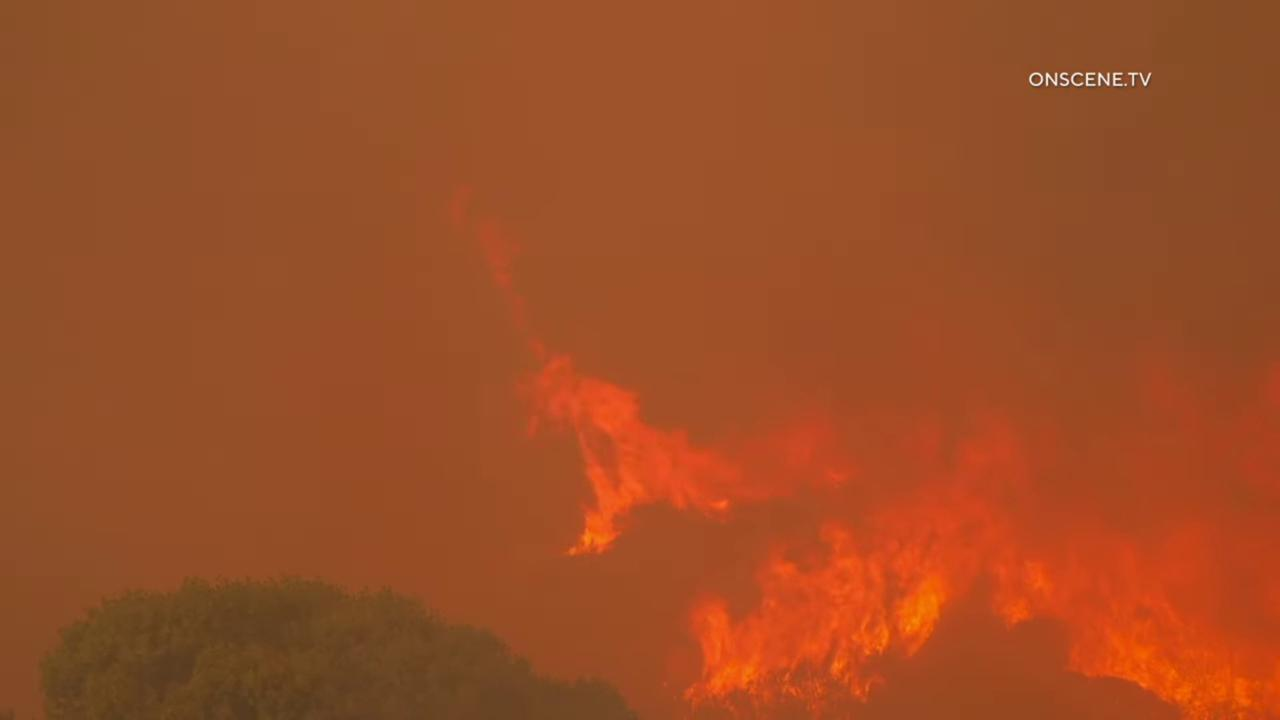fire: (447, 182, 1280, 720)
smoke: (0, 0, 1280, 720)
